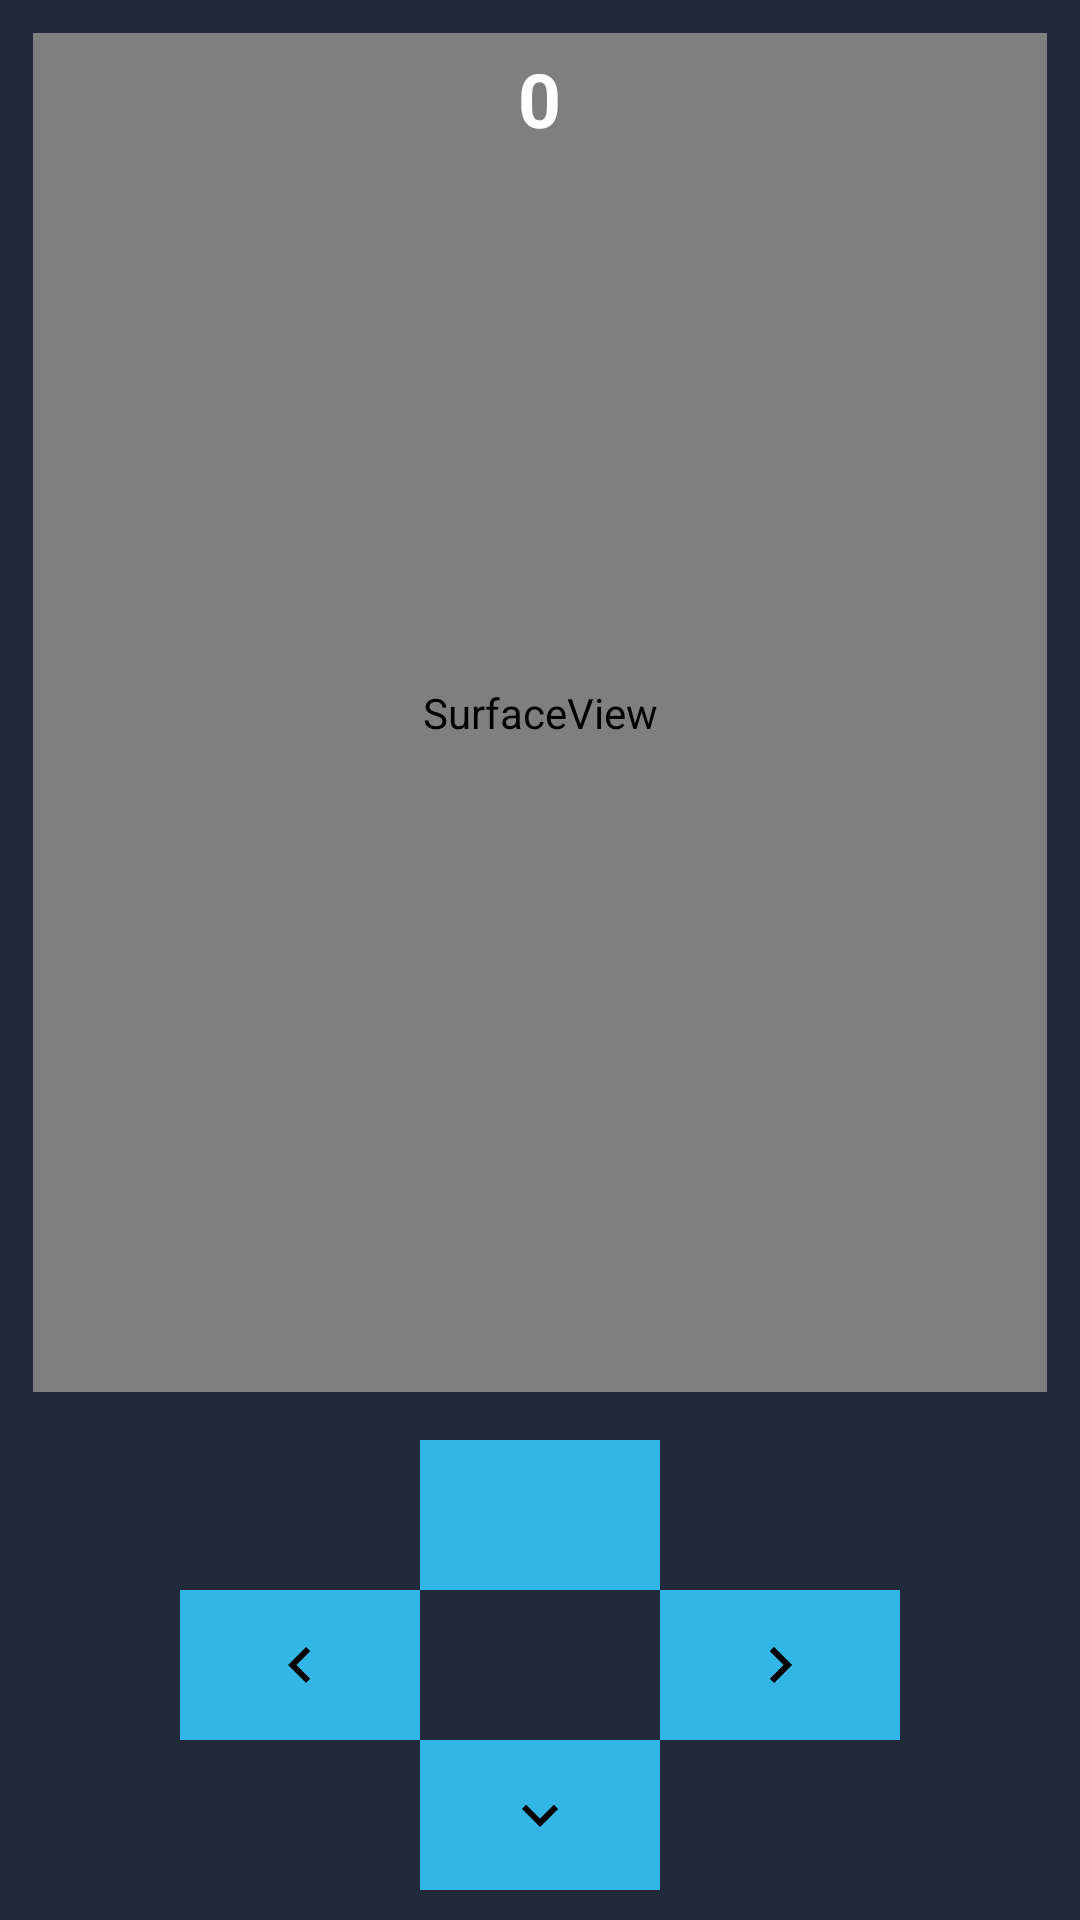

Icons on this 1080x1920 Android screen, each with the point to tap as point (x, y):
bottom arrow: point (540, 1815)
left arrow: point (300, 1665)
right arrow: point (780, 1665)
